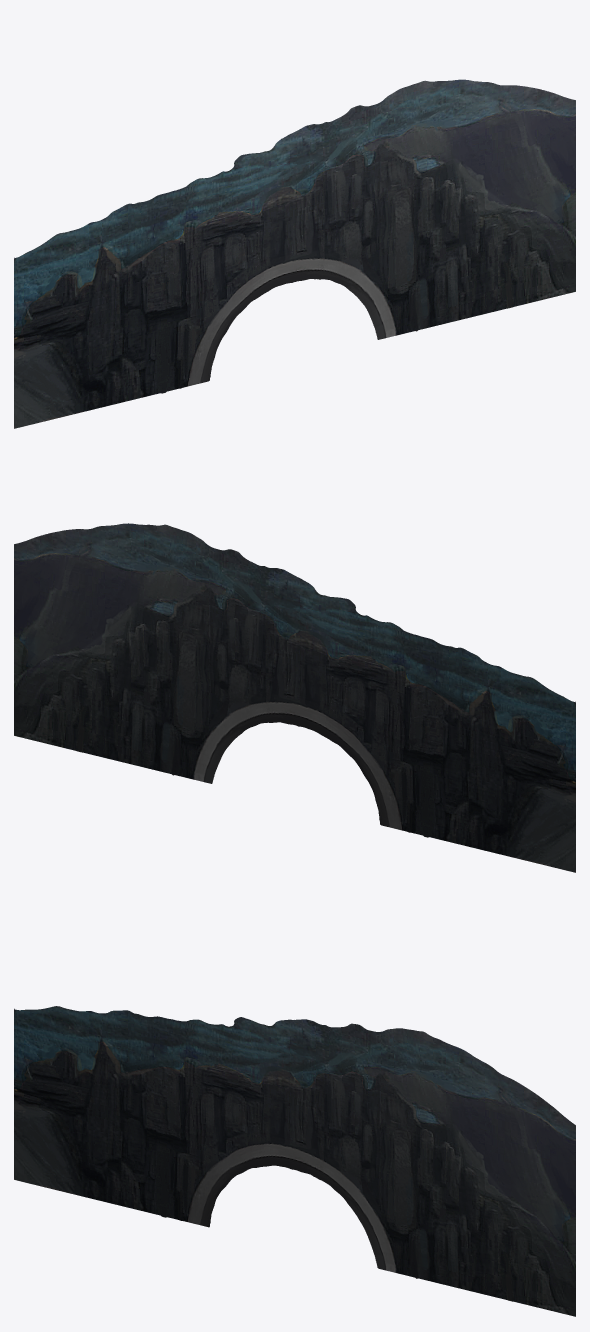
File: model_suidao.FBX
3 views of the same model, one above another, from view 1: azimuth 30°, elevation 25°; view 2: azimuth 150°, elevation 25°; view 3: azimuth 330°, elevation 25° (orthographic).
Visible parts, largest first — view 1: Plane029; view 2: Plane029; view 3: Plane029.
Boxes of the visible parts, x1,y1,x2,y2 form: Plane029: (14, 79, 575, 428); Plane029: (14, 523, 575, 872); Plane029: (14, 1006, 575, 1316).
Size of the model in its own units: 2702 by 1281 by 3.29.
